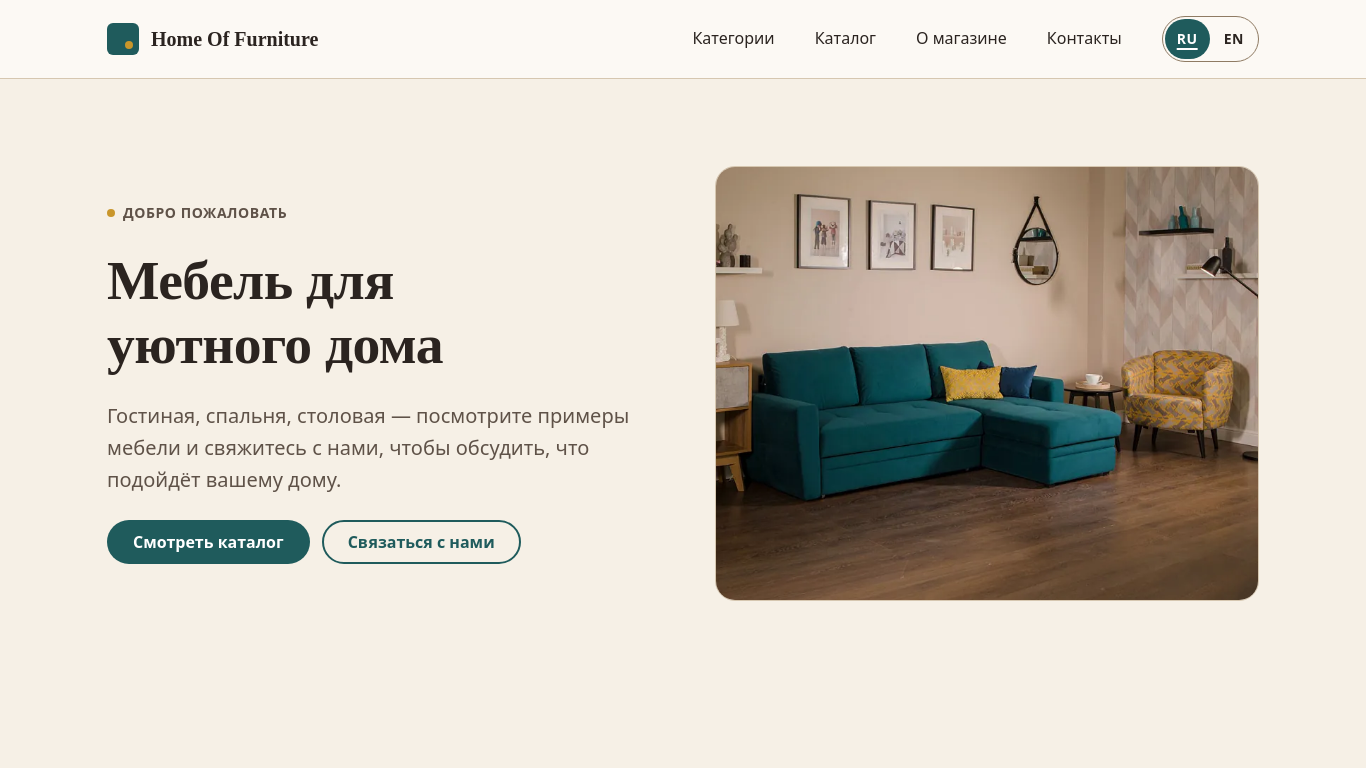
Test case: переключение языка › переводит интерфейс и обновляет атрибуты страницы без перезагрузки
This screenshot has width=1366, height=768.
Click the button named "English" at (1234, 39), box [1212,19,1256,59]
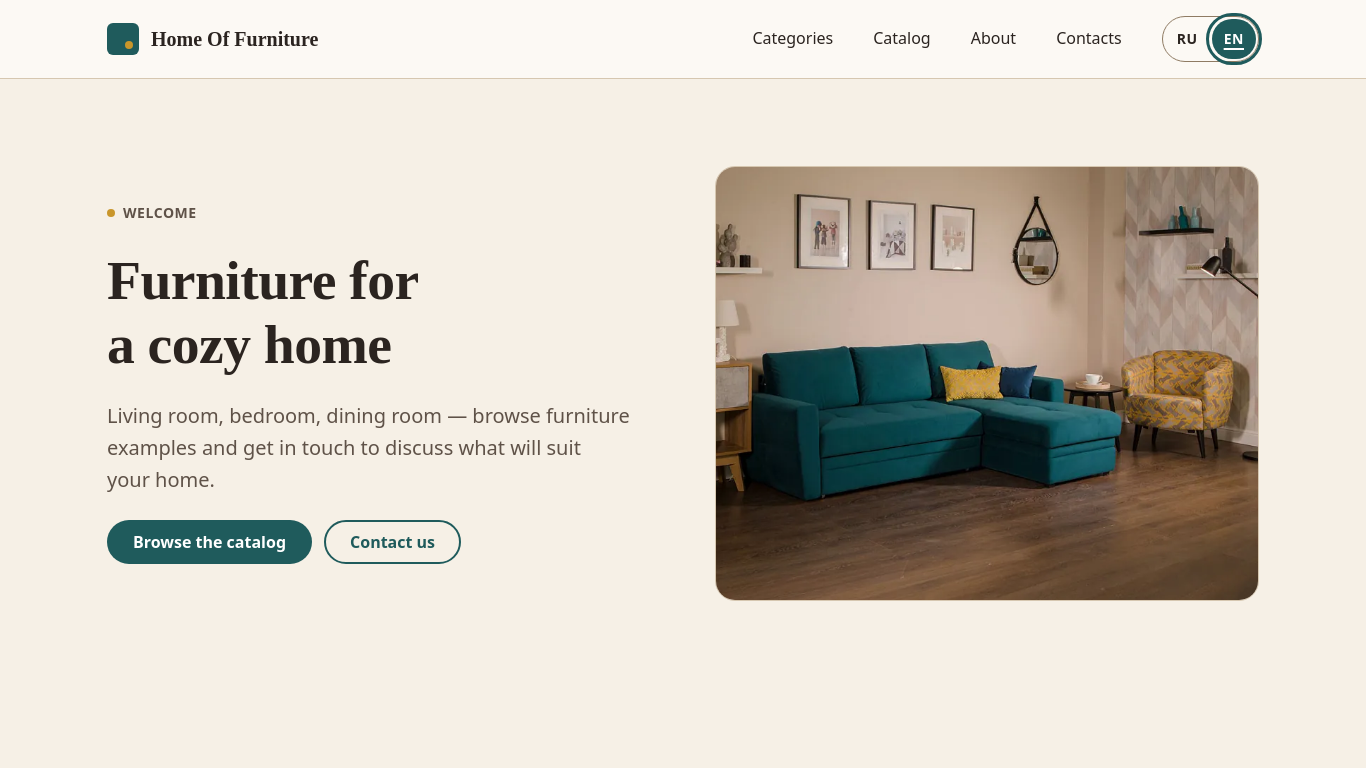
Expected: the heading "Furniture for a cozy home" is shown, [107,249,419,375]
Expected: the navigation bar named "Main navigation" is shown, [752,27,1122,49]
